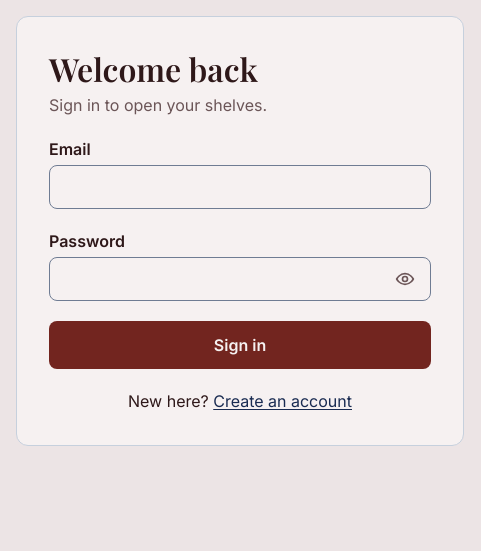
Test case: LoginForm › answers a wrong password with one banner that does not say which field was wrong
Type "alice@example.com" into the field labelled "Email" at (240, 187), box [49,165,431,209]
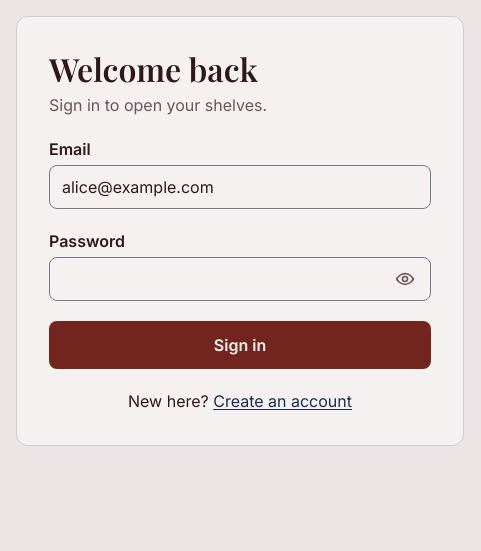
Type "wrong-password" into the password field labelled "Password" at (240, 279), box [49,257,431,301]
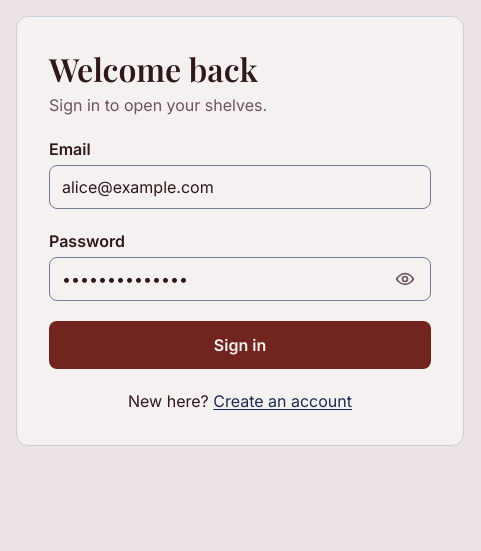
Click the button "Sign in" at (240, 345), box [49,321,431,369]
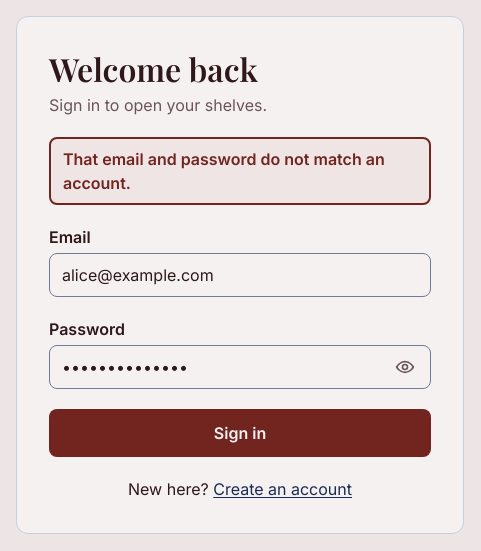
Expected: the message reads "That email and password do not match an account.", [63,149,385,193]
